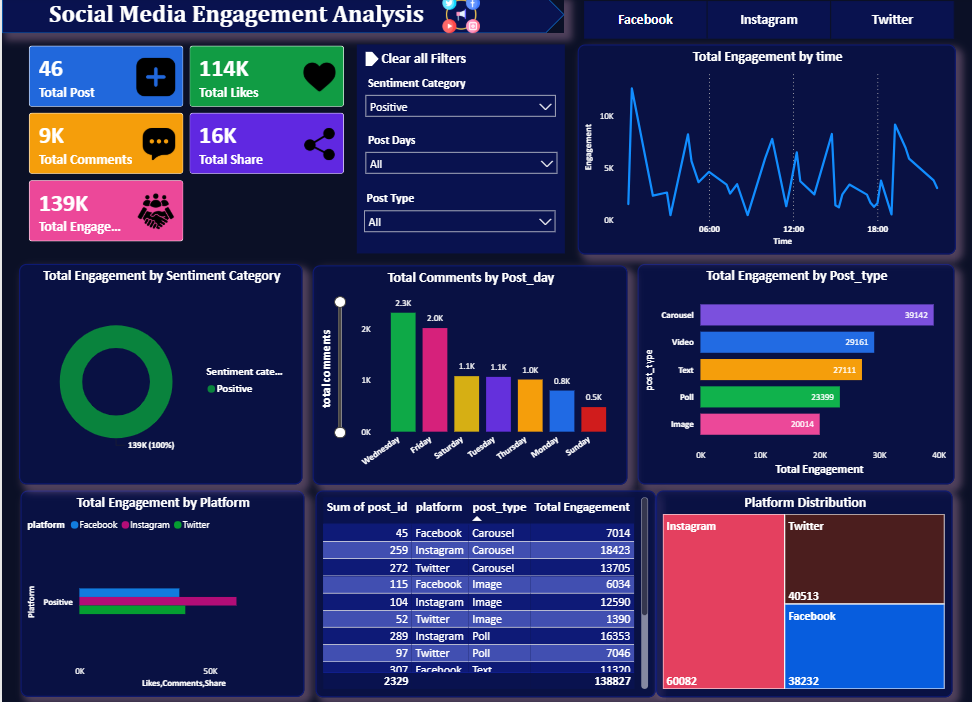

The page's visual inventory and layout, read from the dashboard file:
{"tool":"powerbi","page":{"name":"Page 1","canvas":[1300,950],"ordinal":0},"visuals":[{"type":"shape","box":[0,0,753.8,50],"z":0},{"type":"cardVisual","fields":{"Data":["social_media_engagement1.total post","social_media_engagement1.total likes","social_media_engagement1.total comments","social_media_engagement1.total shares","social_media_engagement1.Total Engagement"]},"box":[20,50,456,296],"z":1000},{"type":"donutChart","title":"Total Engagement by Sentiment Category","fields":{"Category":["social_media_engagement1.sentiment_score"],"Y":["social_media_engagement1.Total Engagement"]},"box":[22,358,379.7,295.1],"z":2000,"group":"g1"},{"type":"clusteredBarChart","title":"Total Engagement by Platform","fields":{"Y":["social_media_engagement1.Total Engagement"],"Category":["social_media_engagement1.sentiment_score"],"Series":["social_media_engagement1.platform"]},"box":[25.6,663.3,380,276.7],"z":2000},{"type":"slicer","fields":{"Values":["social_media_engagement1.platform"]},"box":[755,0,545,63.8],"z":3000},{"type":"barChart","title":"Total Engagement by Post_type","fields":{"Category":["social_media_engagement1.post_type"],"Y":["social_media_engagement1.Total Engagement"]},"box":[850.3,358,424.5,295.1],"z":3000,"group":"g1"},{"type":"group","id":"g1","title":"Group 2","box":[22,74,1252.9,579.7],"z":4000},{"type":"columnChart","title":"Total Comments by Post_day","fields":{"Category":["social_media_engagement1.post_day"],"Y":["social_media_engagement1.total comments"]},"box":[415.3,359.9,421.4,293.8],"z":4000,"group":"g1"},{"type":"lineChart","fields":{"Category":["social_media_engagement1.time"],"Y":["social_media_engagement1.Total Engagement"]},"box":[771.8,64.3,506.5,281.4],"z":5000},{"type":"slicer","fields":{"Values":["social_media_engagement1.post_day"]},"box":[477.6,176.4,276.5,89.7],"z":5000,"group":"g2"},{"type":"textbox","box":[38.6,0,551.5,49.8],"z":6000},{"type":"group","id":"g2","title":"Group 3","box":[476,64.3,278.2,281.4],"z":7000},{"type":"slicer","fields":{"Values":["social_media_engagement1.post_type"]},"box":[476,255.1,276.2,90],"z":7000,"group":"g2"},{"type":"slicer","fields":{"Values":["social_media_engagement1.sentiment_score"]},"box":[477.6,101.3,274.5,91.8],"z":8000,"group":"g2"},{"type":"tableEx","title":"Top 5 Performing Posts","fields":{"Values":["Sum(social_media_engagement1.post_id)","social_media_engagement1.platform","social_media_engagement1.post_type","social_media_engagement1.Total Engagement"]},"box":[420.1,662.6,456.4,276.9],"z":8000},{"type":"shape","box":[487.1,74,18.2,19.4],"z":9000,"group":"g2"},{"type":"treemap","title":"Platform Distribution","fields":{"Group":["social_media_engagement1.platform"],"Values":["social_media_engagement1.Total Engagement"]},"box":[876.5,662.6,397.2,276.9],"z":9000},{"type":"actionButton","box":[648,74,100,40],"z":9002,"group":"g1"},{"type":"image","box":[562.5,0,103.8,50],"z":10000},{"type":"actionButton","box":[504.3,64.3,178.1,36.7],"z":10000,"group":"g2"}]}

Visuals, with their boxes in screenshot pixels (x1, y1, x2, y2), scaled from the page's 1300x950 canvas onto the 972x702 screenshot:
shape: (0,0,564,37)
cardVisual - social_media_engagement1.total post x social_media_engagement1.total likes: (15,37,356,256)
"Total Engagement by Sentiment Category" donutChart: (16,265,300,483)
"Total Engagement by Platform" clusteredBarChart: (19,490,303,695)
slicer - social_media_engagement1.platform: (565,0,971,47)
"Total Engagement by Post_type" barChart: (636,265,953,483)
"Group 2" group: (16,55,953,483)
"Total Comments by Post_day" columnChart: (311,266,626,483)
lineChart - social_media_engagement1.time x social_media_engagement1.Total Engagement: (577,48,956,255)
slicer - social_media_engagement1.post_day: (357,130,564,197)
textbox: (29,0,441,37)
"Group 3" group: (356,48,564,255)
slicer - social_media_engagement1.post_type: (356,189,562,255)
slicer - social_media_engagement1.sentiment_score: (357,75,562,143)
"Top 5 Performing Posts" tableEx: (314,490,655,694)
shape: (364,55,378,69)
"Platform Distribution" treemap: (655,490,952,694)
actionButton: (485,55,559,84)
image: (421,0,498,37)
actionButton: (377,48,510,75)
